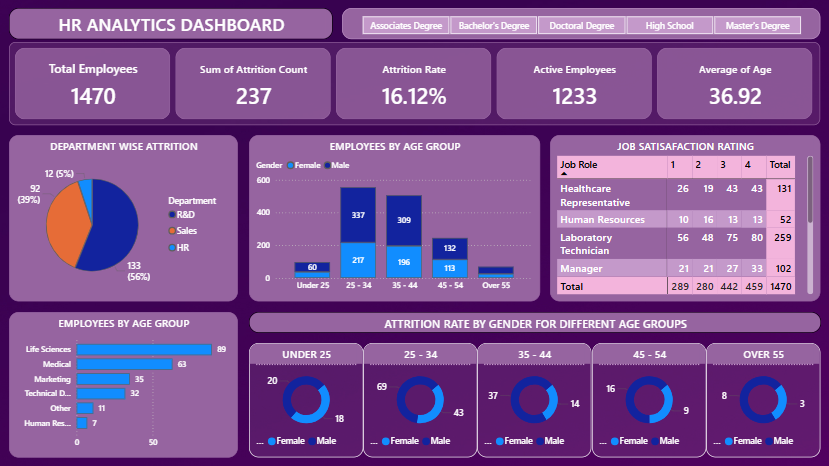

This screenshot's page, from the dashboard's own definition file:
{"tool":"powerbi","page":{"name":"Page 1","canvas":[1280,720],"ordinal":0},"visuals":[{"type":"cardVisual","fields":{"Data":["Sum(HR data.Employee Count)","Sum(HR data.Attrition Count)","HR data.Attrition Rate","HR data.Active Employees","Avg(HR data.Age)"]},"box":[16,64,1248,128],"z":0},{"type":"pieChart","title":"DEPARTMENT WISE ATTRITION","fields":{"Category":["HR data.Department"],"Y":["Sum(HR data.Attrition Count)"]},"box":[16,208,352,256],"z":1},{"type":"columnChart","title":"EMPLOYEES BY AGE GROUP","fields":{"Series":["HR data.Gender"],"Category":["HR data.CF_age band"],"Y":["Sum(HR data.Employee Count)"]},"box":[384,208,448,256],"z":2},{"type":"pivotTable","title":"JOB SATISAFACTION RATING","fields":{"Values":["Sum(HR data.Employee Count)"],"Rows":["HR data.Job Role"],"Columns":["HR data.Job Satisfaction"]},"box":[848,208,416,256],"z":3},{"type":"barChart","title":"EMPLOYEES BY AGE GROUP","fields":{"Category":["HR data.Education Field"],"Y":["Sum(HR data.Attrition Count)"]},"box":[16,480,352,224],"z":4},{"type":"donutChart","title":"UNDER 25","fields":{"Category":["HR data.Gender"],"Y":["Sum(HR data.Attrition Count)"],"Series":["HR data.CF_age band"]},"box":[384,528,176,176],"z":5},{"type":"donutChart","title":"25 - 34","fields":{"Category":["HR data.Gender"],"Y":["Sum(HR data.Attrition Count)"],"Series":["HR data.CF_age band"]},"box":[560,528,176,176],"z":6},{"type":"donutChart","title":"35 - 44","fields":{"Category":["HR data.Gender"],"Y":["Sum(HR data.Attrition Count)"],"Series":["HR data.CF_age band"]},"box":[736,528,176,176],"z":7},{"type":"donutChart","title":"45 - 54","fields":{"Category":["HR data.Gender"],"Y":["Sum(HR data.Attrition Count)"],"Series":["HR data.CF_age band"]},"box":[912,528,176,176],"z":8},{"type":"donutChart","title":"OVER 55","fields":{"Category":["HR data.Gender"],"Y":["Sum(HR data.Attrition Count)"],"Series":["HR data.CF_age band"]},"box":[1088,528,176,176],"z":9},{"type":"textbox","title":"ATTRITION RATE BY GENDER FOR DIFFERENT AGE GROUPS","box":[384,480,880,32],"z":10},{"type":"textbox","title":"HR ANALYTICS DASHBOARD","box":[16,12,498,48],"z":11},{"type":"slicer","fields":{"Values":["HR data.Education"]},"box":[528,12,736,48],"z":13}]}

Visuals, with their boxes in screenshot pixels (x1, y1, x2, y2), scaled from the page's 1280x720 canvas onto the 829x466 screenshot:
cardVisual - Sum(HR data.Employee Count) x Sum(HR data.Attrition Count): bbox=(10, 41, 819, 124)
"DEPARTMENT WISE ATTRITION" pieChart: bbox=(10, 135, 238, 300)
"EMPLOYEES BY AGE GROUP" columnChart: bbox=(249, 135, 539, 300)
"JOB SATISAFACTION RATING" pivotTable: bbox=(549, 135, 819, 300)
"EMPLOYEES BY AGE GROUP" barChart: bbox=(10, 311, 238, 456)
"UNDER 25" donutChart: bbox=(249, 342, 363, 456)
"25 - 34" donutChart: bbox=(363, 342, 477, 456)
"35 - 44" donutChart: bbox=(477, 342, 591, 456)
"45 - 54" donutChart: bbox=(591, 342, 705, 456)
"OVER 55" donutChart: bbox=(705, 342, 819, 456)
"ATTRITION RATE BY GENDER FOR DIFFERENT AGE GROUPS" textbox: bbox=(249, 311, 819, 331)
"HR ANALYTICS DASHBOARD" textbox: bbox=(10, 8, 333, 39)
slicer - HR data.Education: bbox=(342, 8, 819, 39)
